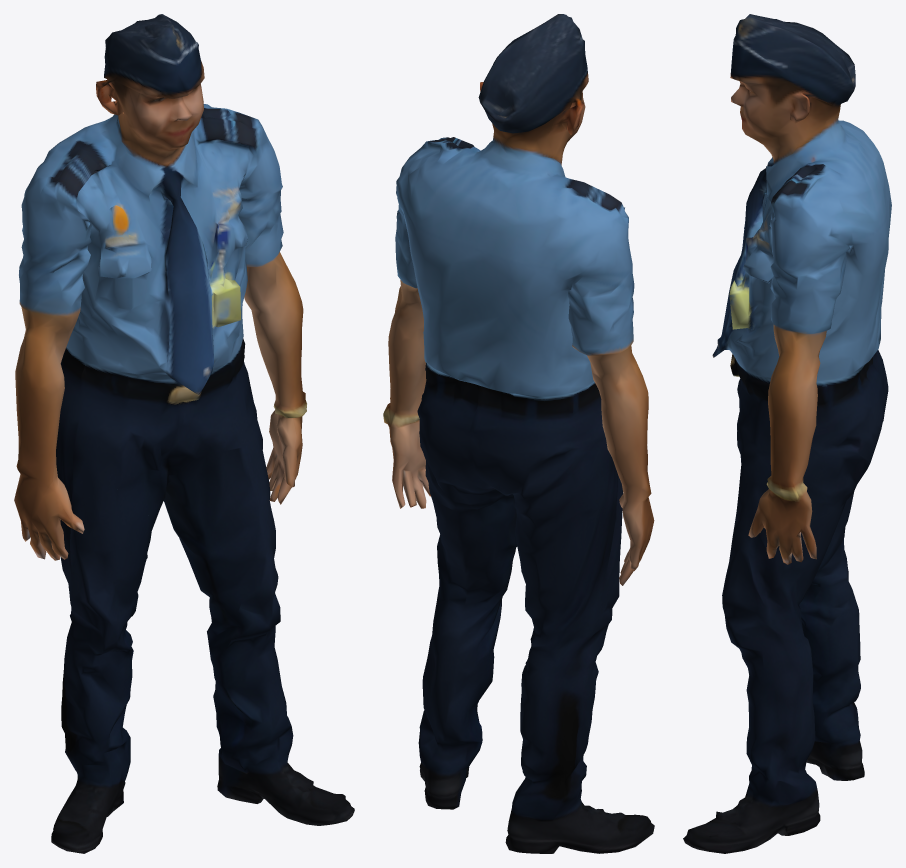
Rendered from avsec_idle.glb.
The picture shows the model from 3 angles, left to right: view 1: azimuth 30°, elevation 25°; view 2: azimuth 150°, elevation 25°; view 3: azimuth 270°, elevation 25°; orthographic projection. The views are drawn at different scales.
Visible parts, largest first — view 1: tripo_node_4fcd47b2; view 2: tripo_node_4fcd47b2; view 3: tripo_node_4fcd47b2.
Boxes of the visible parts, bbox=[...] form: tripo_node_4fcd47b2: bbox=[14, 14, 354, 853]; tripo_node_4fcd47b2: bbox=[383, 14, 654, 853]; tripo_node_4fcd47b2: bbox=[683, 14, 891, 853].
Size of the model in its own units: 32.79 by 91.35 by 22.38.
Materials: 1 (1 with a texture image).
